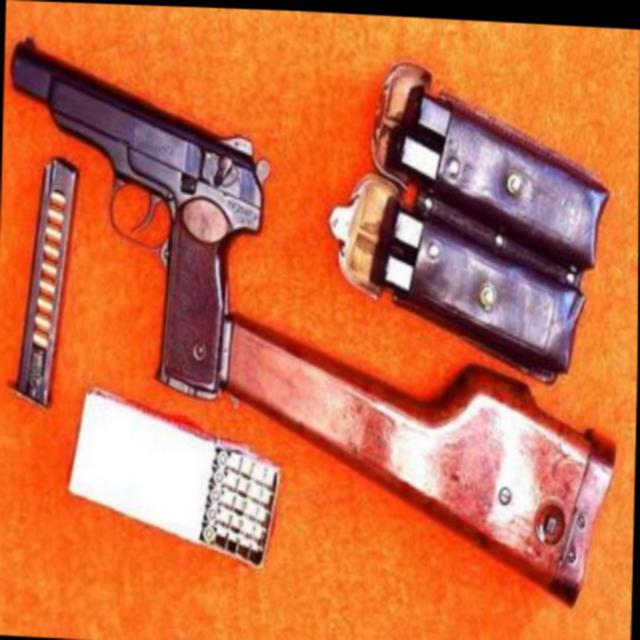weapon: (0, 31, 624, 603)
